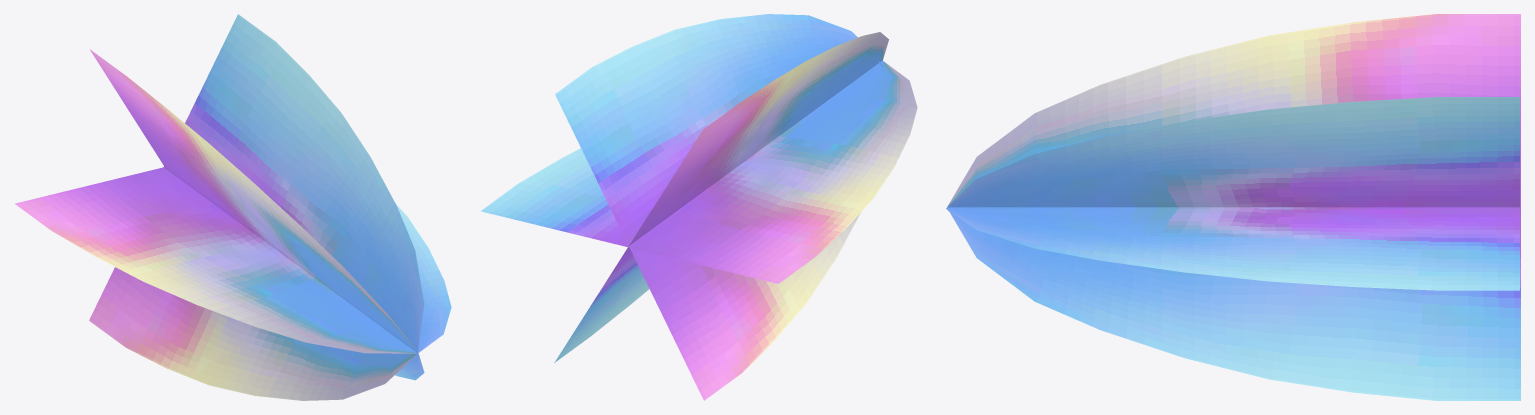
3 renders of one model, left to right at view 1: azimuth 30°, elevation 25°; view 2: azimuth 150°, elevation 25°; view 3: azimuth 270°, elevation 25°, orthographic. The views are drawn at different scales.
Visible parts, largest first — view 1: 平面.001; view 2: 平面.001; view 3: 平面.001.
Part boxes in pixels (x1,y1,x2,y2): 平面.001: (15, 14, 451, 400); 平面.001: (481, 14, 917, 400); 平面.001: (946, 14, 1520, 400).
Bounding box in the file's own units: 1.19 × 1.03 × 1.76.
2 materials, 2 textured.
